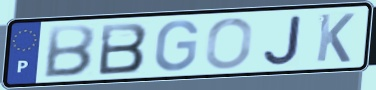B: (41, 23, 98, 79), (96, 21, 150, 77)
G: (152, 18, 201, 73)
J: (261, 13, 305, 67)
K: (314, 11, 357, 64)
O: (203, 16, 255, 71)
